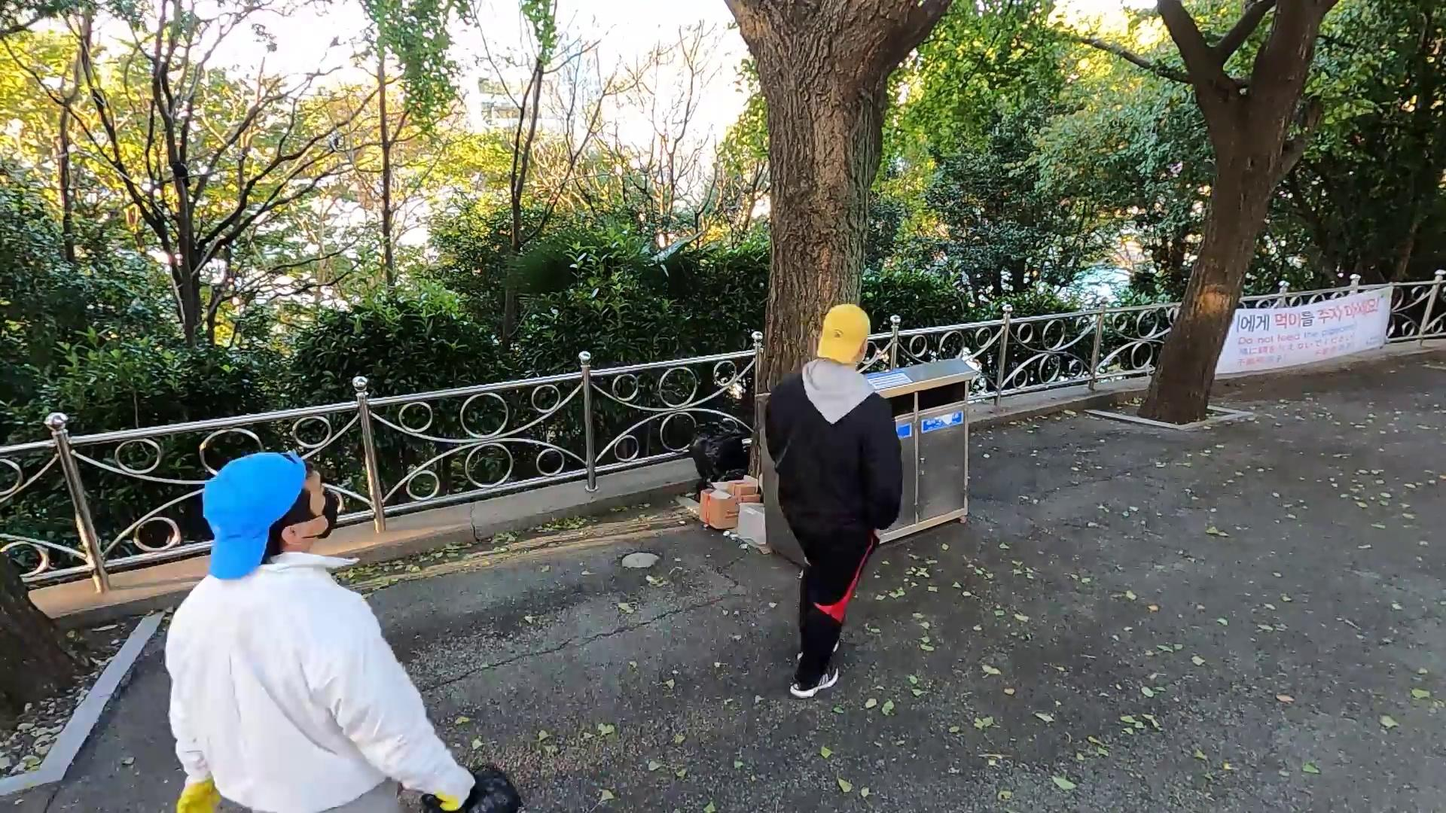person: (157, 445, 482, 813), (757, 299, 900, 703)
trash: (420, 759, 520, 813), (689, 416, 748, 500), (692, 477, 762, 541), (731, 496, 764, 552), (722, 468, 757, 502)
